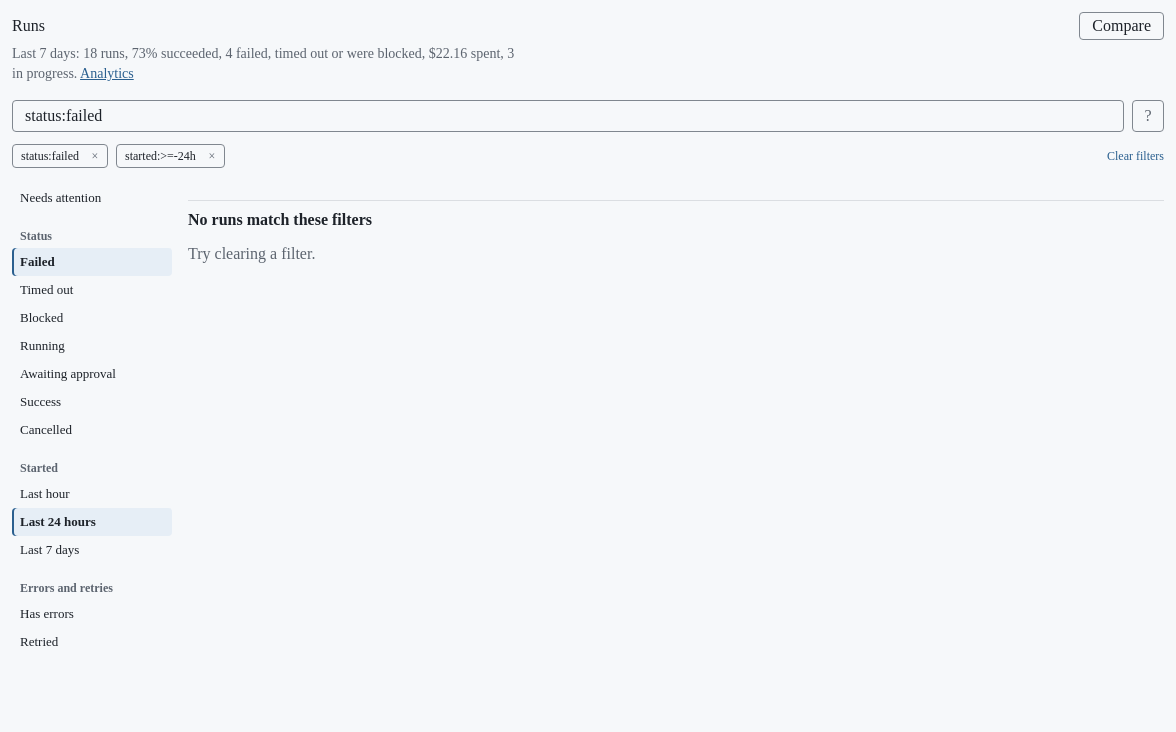
Test: the one field › clear filters resets the field, the chips and the URL in one click
Check: the search field named "Search runs" holds "status:failed", box [12,100,1124,132]
Click the button "Clear filters".
click(1136, 156)  # box [1107,148,1164,164]
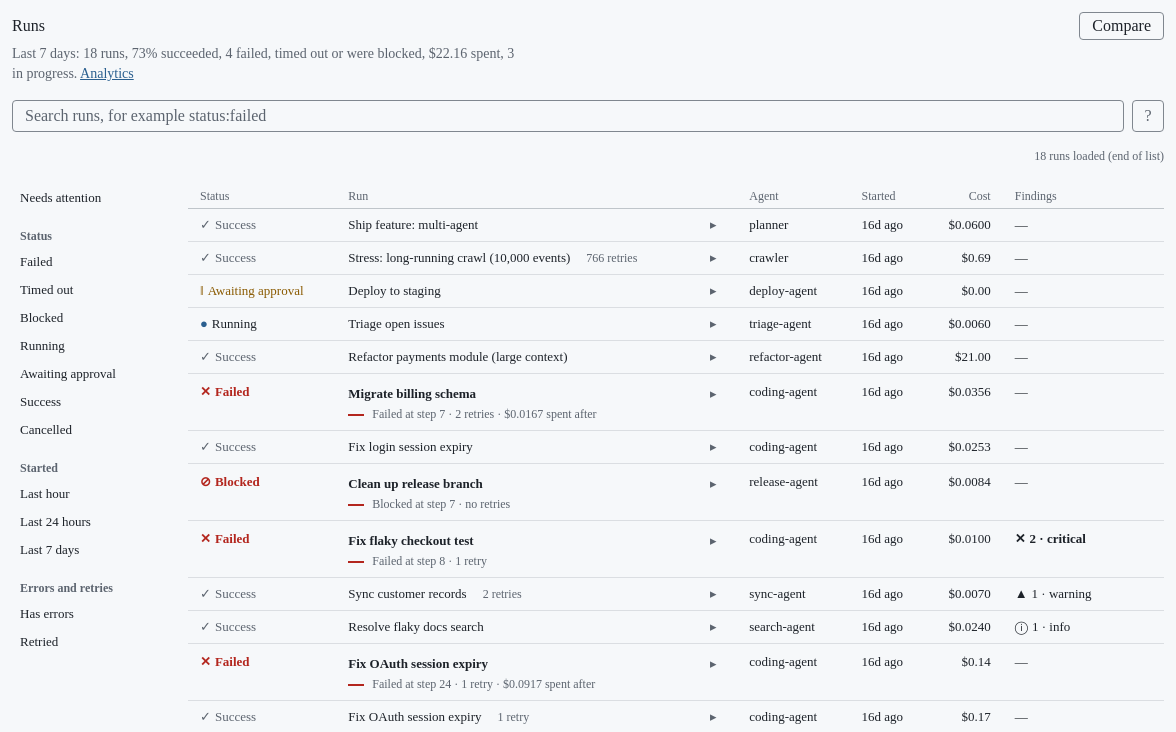
Check: the search field labelled "Search runs" is empty, box [12,100,1124,132]
